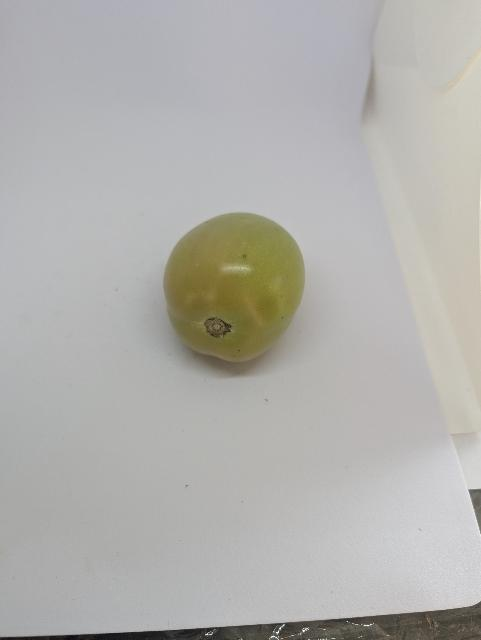green: (144, 204, 324, 380)
